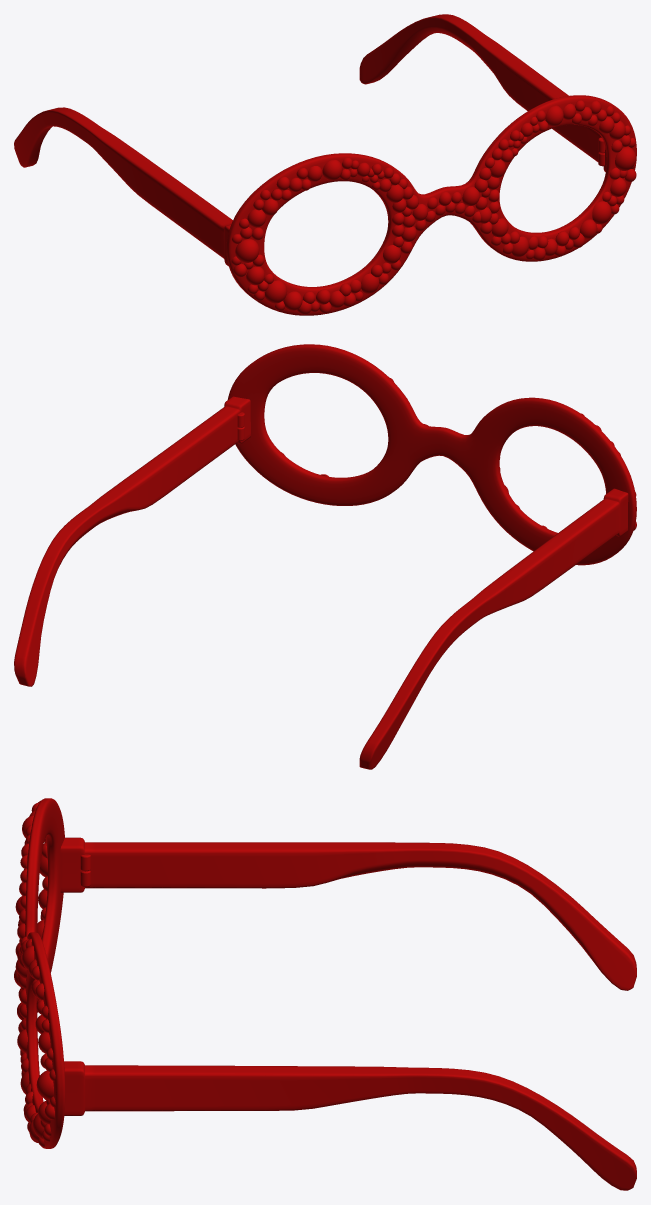
The model's file is home.gltf.
3 renders of one model, top to bottom at view 1: azimuth 30°, elevation 25°; view 2: azimuth 150°, elevation 25°; view 3: azimuth 270°, elevation 25°, orthographic. The views are drawn at different scales.
Visible parts, largest first — view 1: 15937_Bubbles_v2; view 2: 15937_Bubbles_v2; view 3: 15937_Bubbles_v2.
Part boxes in pixels (box(x1,y1,x2,y2)): 15937_Bubbles_v2: box(14, 14, 636, 315); 15937_Bubbles_v2: box(14, 344, 636, 769); 15937_Bubbles_v2: box(14, 798, 636, 1190).
Size of the model in its own units: 13.33 by 5.43 by 14.62.
